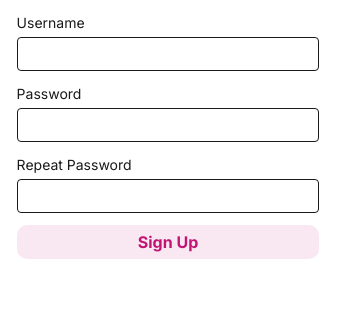
Scenario: SignUp component › displays server error messages if sign up fails
Type "testuser" into the field labelled "Username" at (168, 54), box [17, 37, 319, 71]
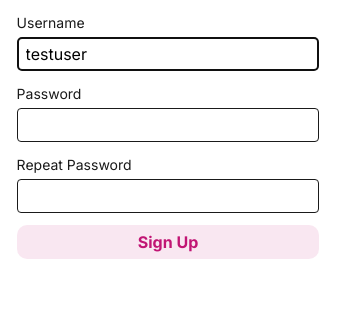
Type "password123" into the password field labelled "Password" at (168, 125), box [17, 108, 319, 142]
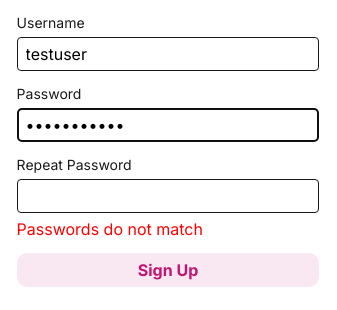
Type "password123" into the password field labelled "Repeat Password" at (168, 196), box [17, 179, 319, 213]
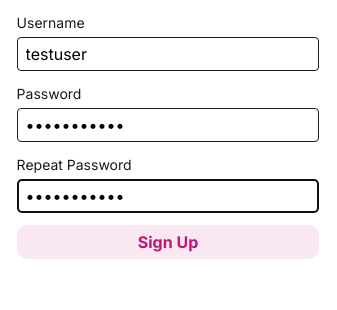
Click the button "Sign Up" at (168, 242), box [17, 225, 319, 259]
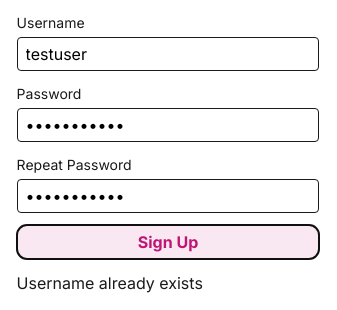
Check: the text "Username already exists" is shown, box [17, 273, 203, 293]
